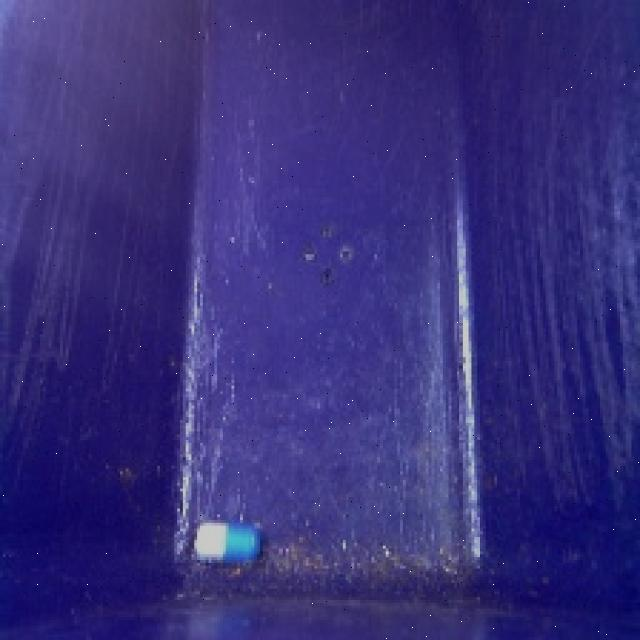small: (191, 514, 267, 572)
